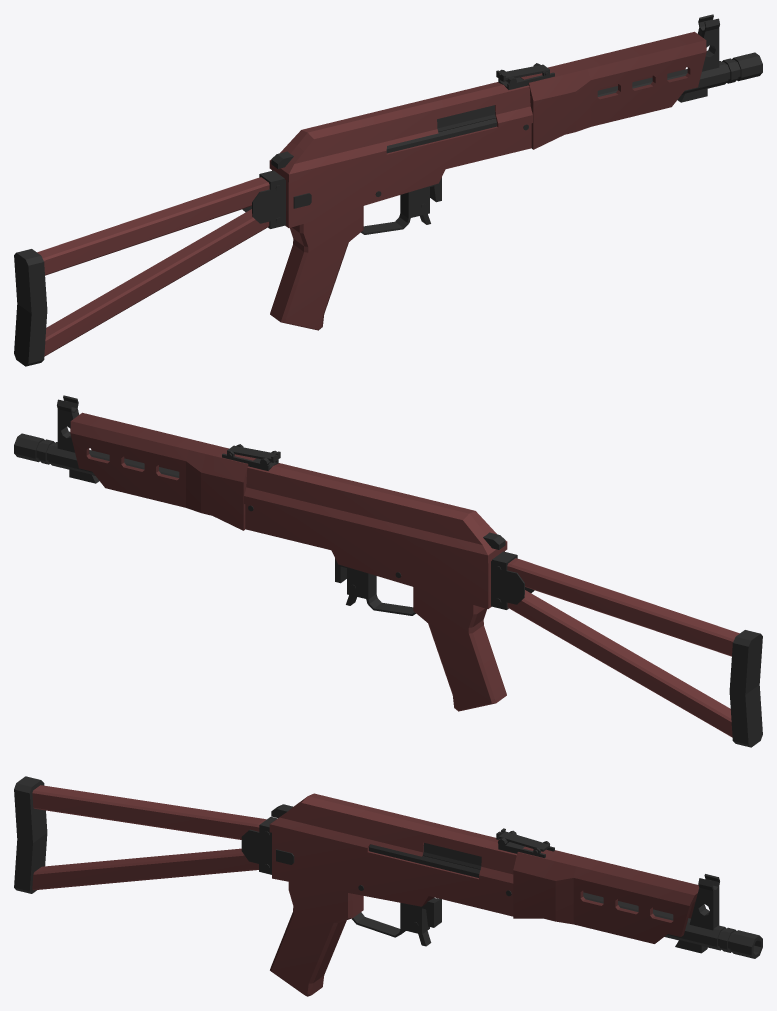
Rendered from SMG5_06.fbx.
The picture shows the model from 3 angles, top to bottom: view 1: azimuth 30°, elevation 25°; view 2: azimuth 150°, elevation 25°; view 3: azimuth 330°, elevation 25°; orthographic projection.
Parts seen in each view (by area): view 1: SMG5_06; view 2: SMG5_06; view 3: SMG5_06.
Boxes of the visible parts, x1=… form: SMG5_06: x1=14, y1=14, x2=762, y2=366; SMG5_06: x1=14, y1=395, x2=762, y2=747; SMG5_06: x1=14, y1=776, x2=762, y2=996.
Size of the model in its own units: 0.8851 by 0.2432 by 0.0422.
